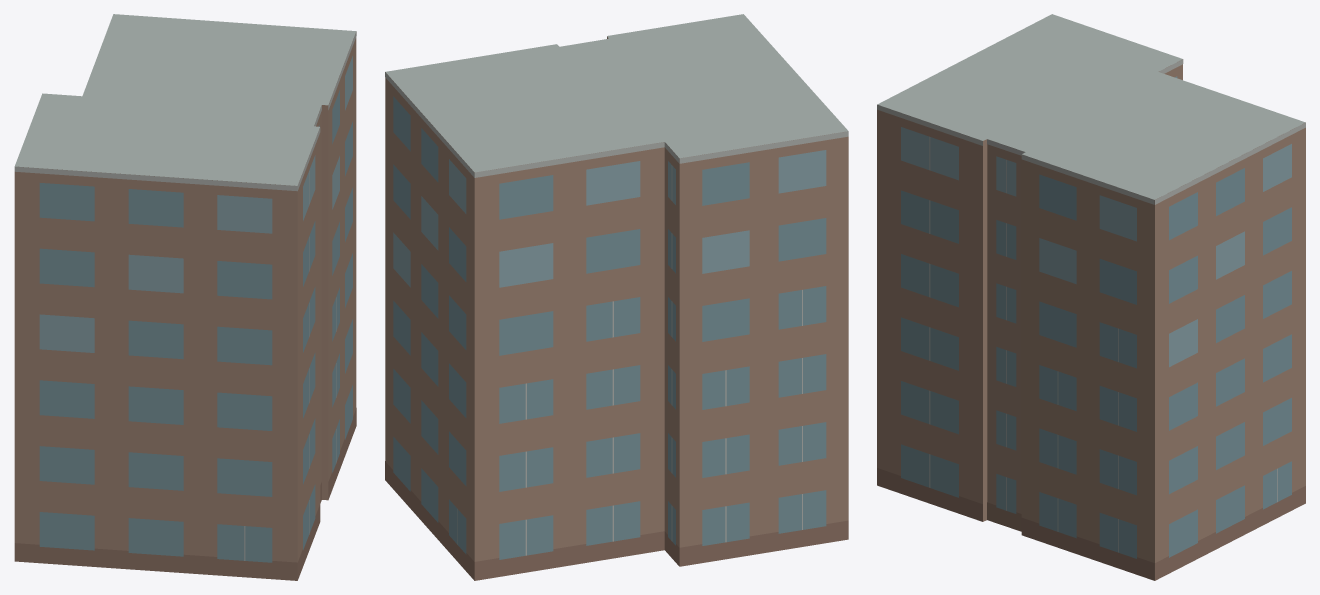
The model's file is survey-upis-32593077.glb.
The picture shows the model from 3 angles, left to right: view 1: azimuth 30°, elevation 25°; view 2: azimuth 150°, elevation 25°; view 3: azimuth 270°, elevation 25°; orthographic projection. The views are drawn at different scales.
Visible parts, largest first — view 1: survey-upis-32593077.tmp; view 2: survey-upis-32593077.tmp; view 3: survey-upis-32593077.tmp.
Part boxes in pixels (x1,y1,x2,y2): survey-upis-32593077.tmp: (14,14,356,580); survey-upis-32593077.tmp: (385,14,848,580); survey-upis-32593077.tmp: (877,14,1305,580).
Bounding box in the file's own units: 19.16 × 18.3 × 18.67.
